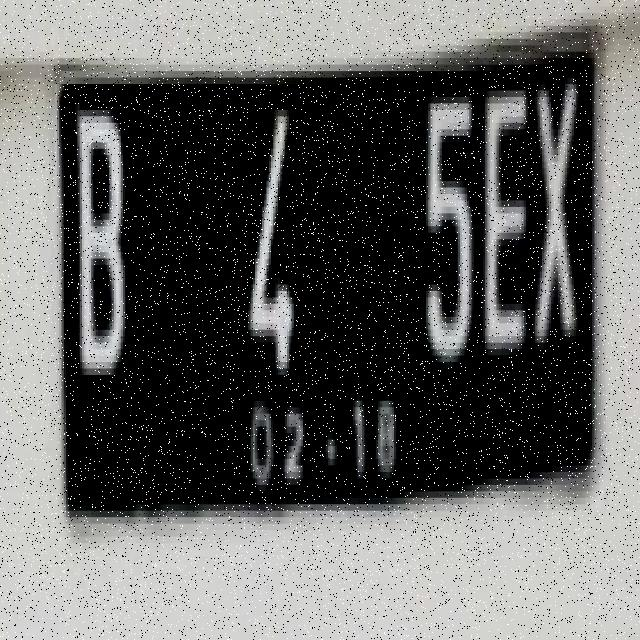licenseplate: (44, 21, 612, 570)
